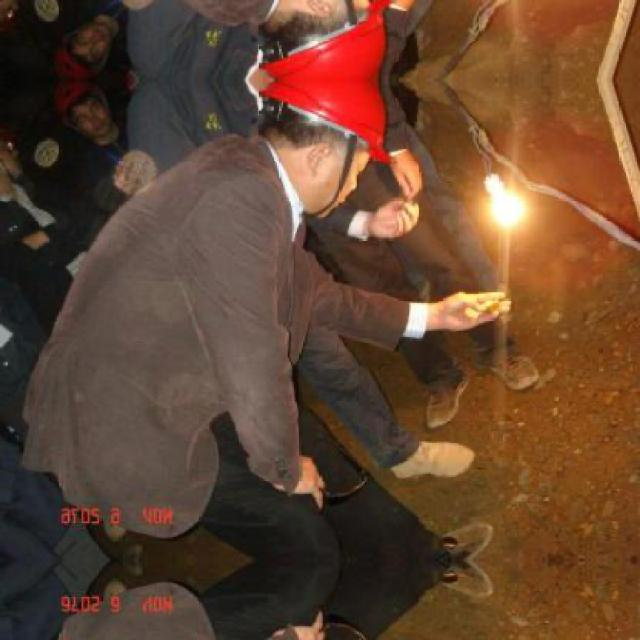con casco: (220, 74, 405, 206)
